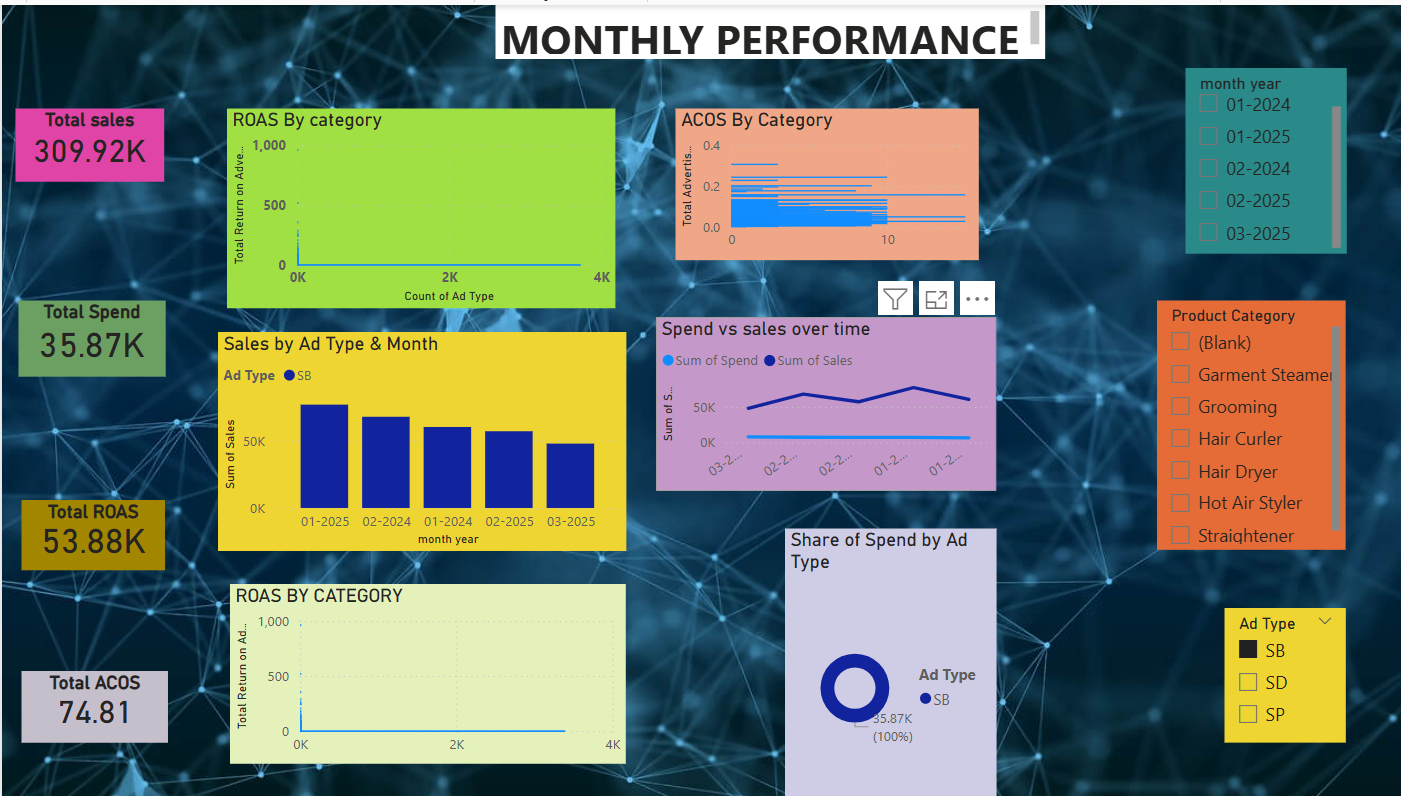

The dashboard page shown, as its layout file describes it:
{"tool":"powerbi","page":{"name":"monthly perfomance","canvas":[1280,720],"ordinal":0},"visuals":[{"type":"lineChart","title":"Spend vs sales over time","fields":{"Category":["combined data.month year"],"Y":["Sum(combined data.Spend)","Sum(combined data.Sales)"]},"box":[589.3,281.2,306.8,156.8],"z":0},{"type":"clusteredBarChart","title":"ROAS BY CATEGORY","fields":{"Y":["CountNonNull(combined data.Product Category)"],"Category":["combined data.Total Return on Advertising Spend (ROAS) - (Click)"]},"box":[205.5,521.8,356.9,162.2],"z":1000},{"type":"clusteredBarChart","title":"ACOS By Category","fields":{"Y":["CountNonNull(combined data.Product Category)"],"Category":["combined data.Total Advertising Cost of Sales (ACOS) "]},"box":[606.9,93.3,273,136.5],"z":2000},{"type":"clusteredBarChart","title":"ROAS By category","fields":{"Y":["CountNonNull(combined data.Ad Type)"],"Category":["combined data.Total Return on Advertising Spend (ROAS) - (Click)"]},"box":[202.8,93.3,350.1,179.8],"z":3000},{"type":"slicer","fields":{"Values":["combined data.Ad Type"]},"box":[1101.6,543.4,109.5,121.7],"z":4000},{"type":"slicer","fields":{"Values":["combined data.Product Category"]},"box":[1040.8,266.3,170.3,224.4],"z":5000},{"type":"slicer","fields":{"Values":["combined data.month year"]},"box":[1066.2,56.2,145,167.5],"z":6000},{"type":"columnChart","title":"Sales by Ad Type & Month","fields":{"Category":["combined data.month year"],"Series":["combined data.Ad Type"],"Y":["Sum(combined data.Sales)"]},"box":[194.6,294.7,367.7,197.4],"z":7000},{"type":"donutChart","title":"Share of Spend by Ad Type","fields":{"Y":["Sum(combined data.Spend)"],"Category":["combined data.Ad Type"]},"box":[705.6,471.7,190.6,248.7],"z":8000},{"type":"card","title":"Total sales","fields":{"Values":["Sum(combined data.Sales)"]},"box":[12.6,92.9,133.9,66.2],"z":9000},{"type":"card","title":"Total Spend","fields":{"Values":["Sum(combined data.Spend)"]},"box":[14.9,266.3,132.5,68.9],"z":10000},{"type":"card","title":"Total ROAS","fields":{"Values":["Sum(combined data.Total Return on Advertising Spend (ROAS) - (Click))"]},"box":[17.3,445.7,129.2,63],"z":11000},{"type":"card","title":"Total ACOS","fields":{"Values":["Sum(combined data.Total Advertising Cost of Sales (ACOS) )"]},"box":[17.3,600.1,132.3,64.6],"z":12000},{"type":"textbox","box":[445,0,495,48.8],"z":13000}]}

Visuals, with their boxes in screenshot pixels (x1, y1, x2, y2), scaled from the page's 1280x720 canvas onto the 1401x796 screenshot:
"Spend vs sales over time" lineChart: (x1=645, y1=311, x2=981, y2=484)
"ROAS BY CATEGORY" clusteredBarChart: (x1=225, y1=577, x2=616, y2=756)
"ACOS By Category" clusteredBarChart: (x1=664, y1=103, x2=963, y2=254)
"ROAS By category" clusteredBarChart: (x1=222, y1=103, x2=605, y2=302)
slicer - combined data.Ad Type: (x1=1206, y1=601, x2=1326, y2=735)
slicer - combined data.Product Category: (x1=1139, y1=294, x2=1326, y2=542)
slicer - combined data.month year: (x1=1167, y1=62, x2=1326, y2=247)
"Sales by Ad Type & Month" columnChart: (x1=213, y1=326, x2=615, y2=544)
"Share of Spend by Ad Type" donutChart: (x1=772, y1=521, x2=981, y2=795)
"Total sales" card: (x1=14, y1=103, x2=160, y2=176)
"Total Spend" card: (x1=16, y1=294, x2=161, y2=371)
"Total ROAS" card: (x1=19, y1=493, x2=160, y2=562)
"Total ACOS" card: (x1=19, y1=663, x2=164, y2=735)
textbox: (x1=487, y1=0, x2=1029, y2=54)
